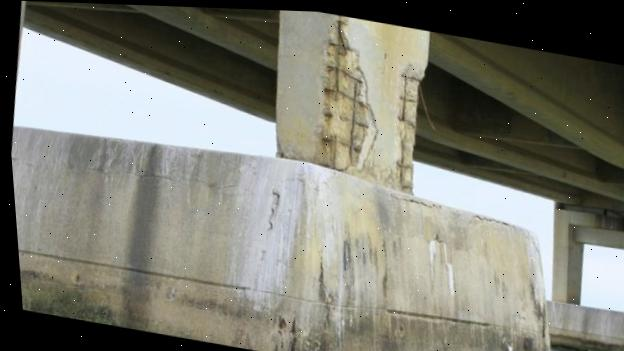exposed_rebar: (399, 73, 411, 188), (348, 73, 359, 161), (334, 21, 343, 100), (331, 133, 337, 157)
spalling: (318, 16, 377, 169), (398, 63, 425, 193)
